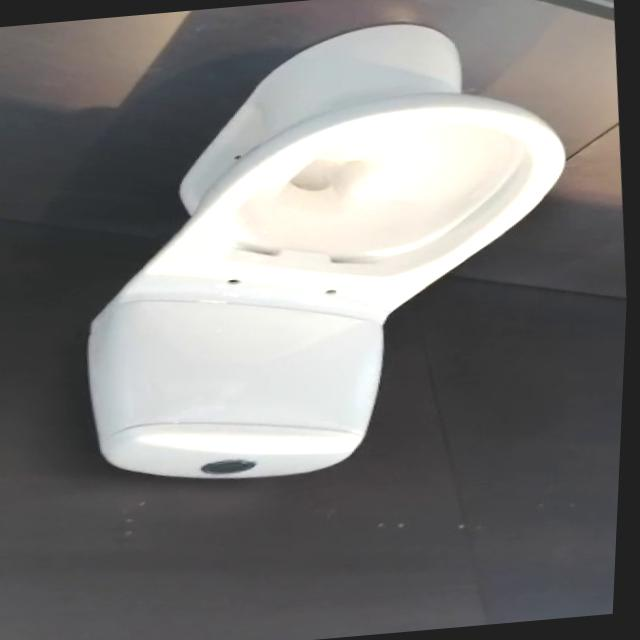toilet: (58, 9, 599, 494)
